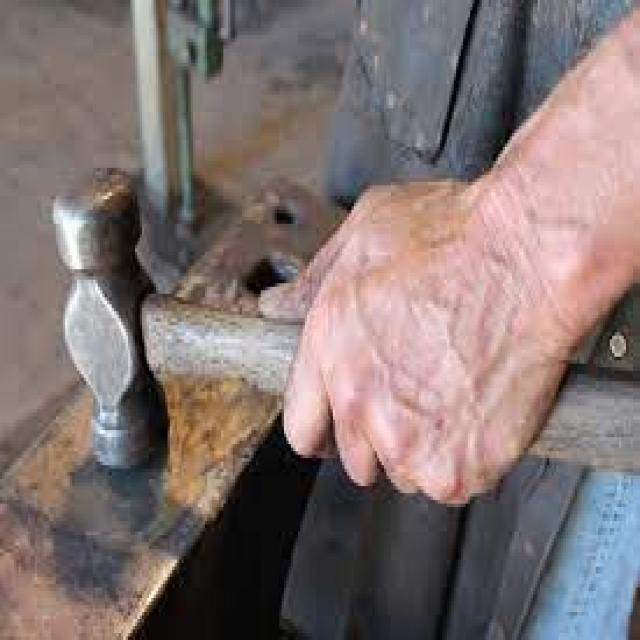hammer: (37, 161, 640, 507)
